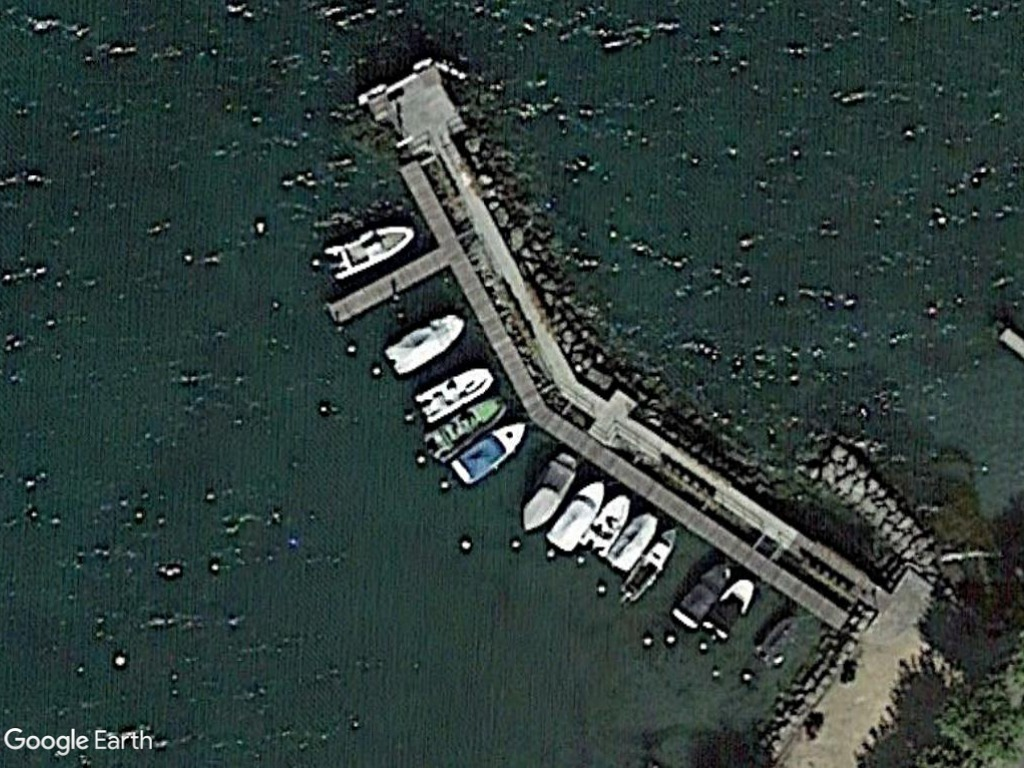boat: (418, 386, 512, 470), (379, 307, 466, 380), (322, 219, 415, 284), (448, 415, 528, 488), (413, 360, 499, 425), (517, 451, 580, 536), (615, 525, 682, 603), (543, 476, 608, 554), (604, 509, 661, 575), (577, 491, 634, 556)
